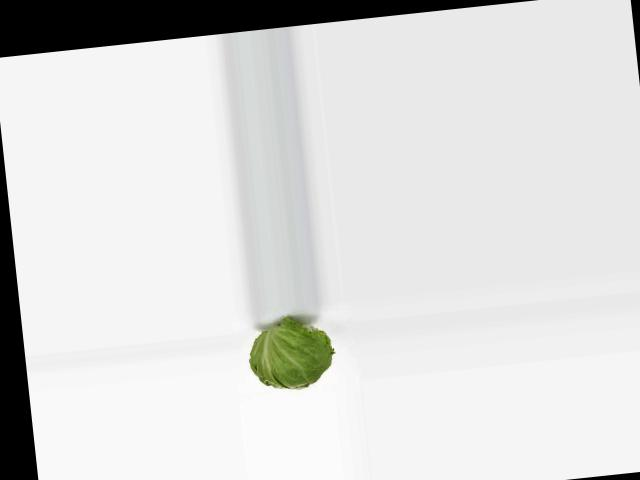lettuce: (241, 321, 340, 395)
